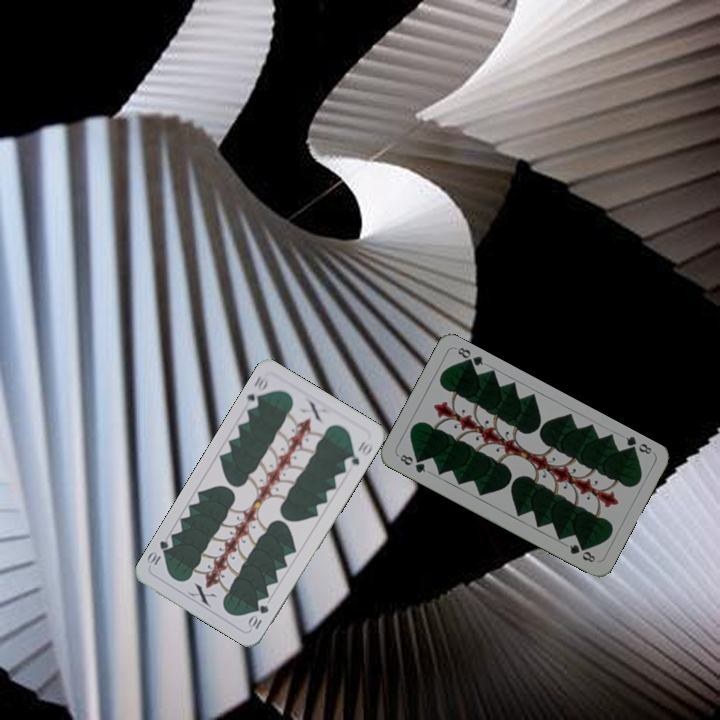G10: (241, 370, 272, 412), (245, 601, 271, 632)
G8: (396, 450, 428, 475), (622, 432, 654, 457)
